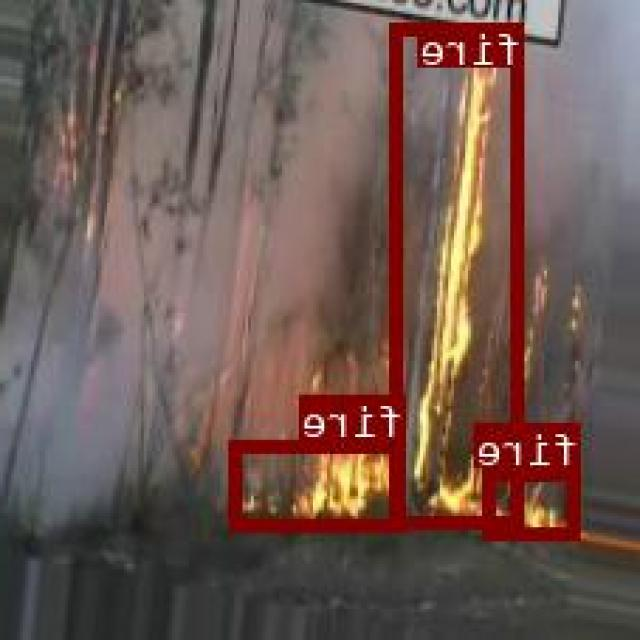fire: (393, 21, 526, 526), (234, 438, 406, 529), (487, 468, 582, 537)
